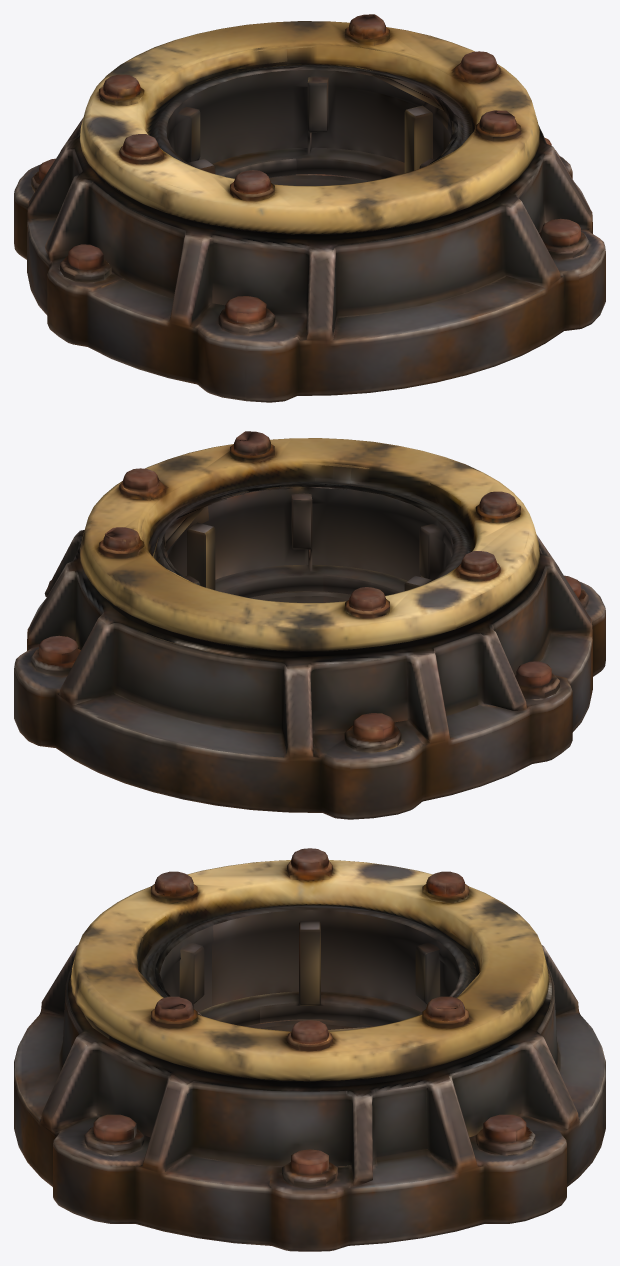
The model's file is hole_final.glb.
3 renders of one model, top to bottom at view 1: azimuth 30°, elevation 25°; view 2: azimuth 150°, elevation 25°; view 3: azimuth 270°, elevation 25°, orthographic. The views are drawn at different scales.
Visible parts, largest first — view 1: mesh_rep_0_ori_repair; view 2: mesh_rep_0_ori_repair; view 3: mesh_rep_0_ori_repair.
Part boxes in pixels (x1=…): mesh_rep_0_ori_repair: x1=14, y1=14, x2=605, y2=402; mesh_rep_0_ori_repair: x1=14, y1=431, x2=605, y2=819; mesh_rep_0_ori_repair: x1=14, y1=848, x2=605, y2=1251.
Size of the model in its own units: 1.1 by 0.3684 by 1.07.
Materials: 1 (1 with a texture image).
